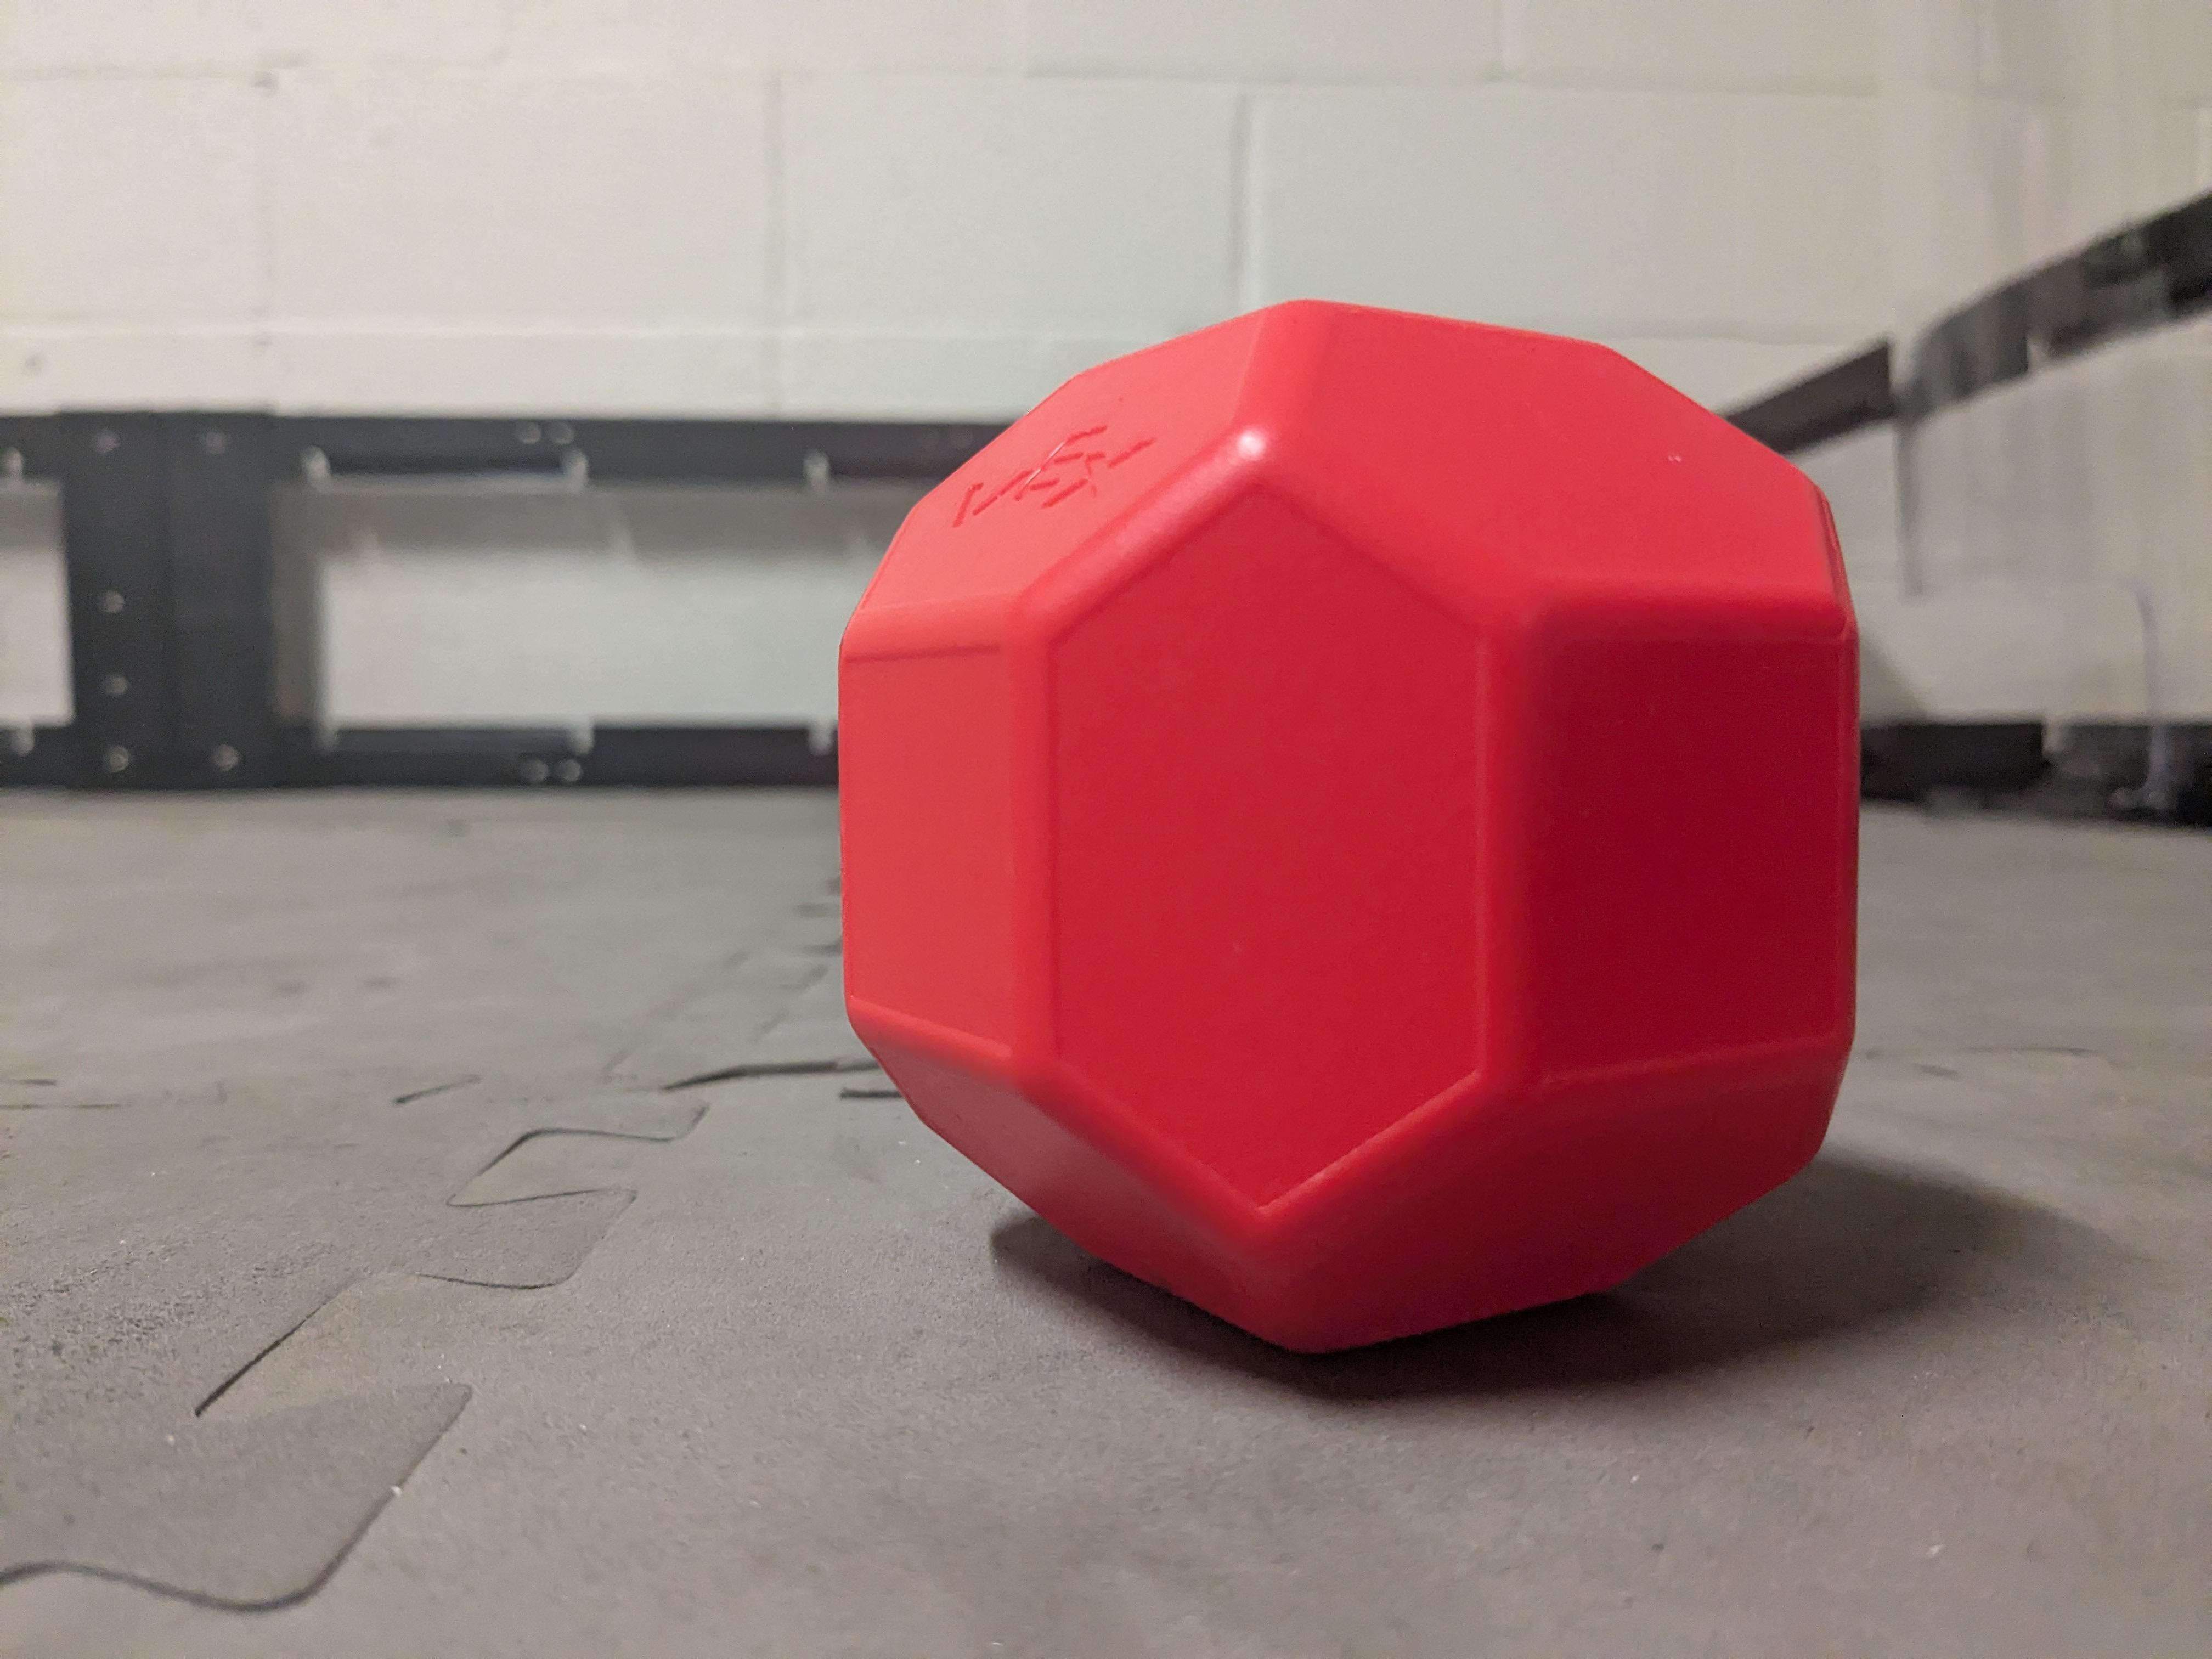Vex-Pieces-RED: (822, 301, 1867, 1316)
